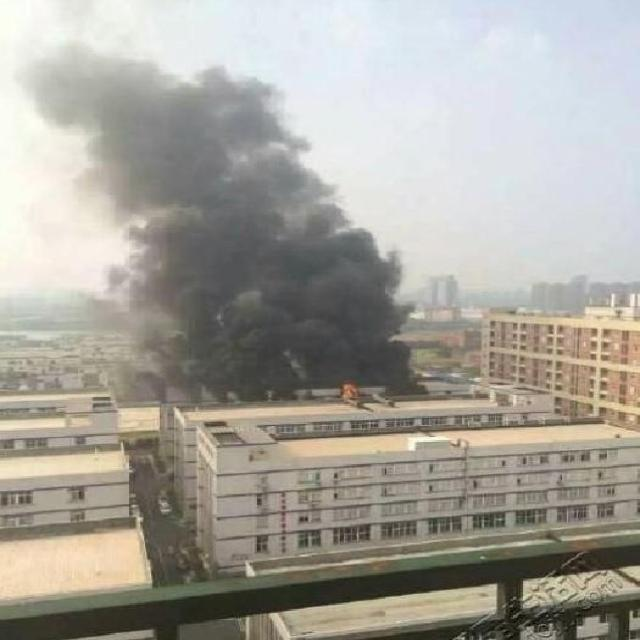Smoke: (12, 42, 429, 405)
